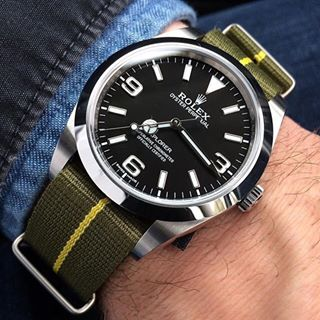clock: (95, 54, 255, 201)
